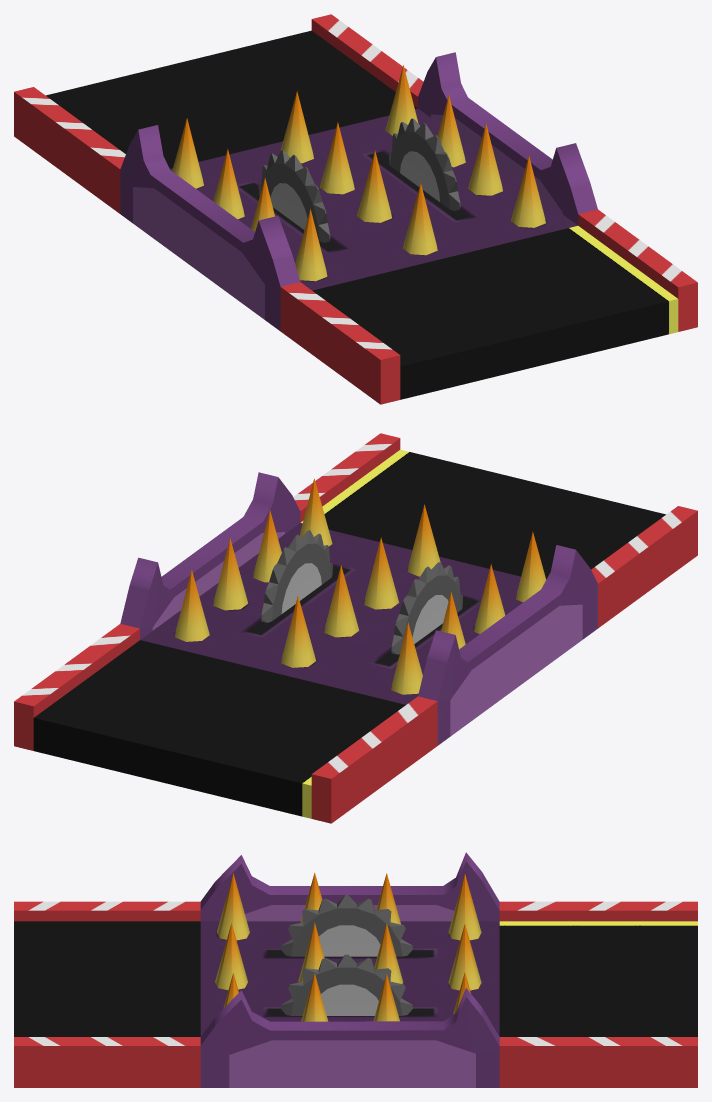
File: Special track - Spike trap.fbx
3 views of the same model, one above another, from view 1: azimuth 30°, elevation 25°; view 2: azimuth 150°, elevation 25°; view 3: azimuth 270°, elevation 25° (orthographic). The views are drawn at different scales.
Visible parts, largest first — view 1: Track - Spike trap piece, Spikes, SAW; view 2: Track - Spike trap piece, Spikes, SAW; view 3: Track - Spike trap piece, SAW, Spikes.
Boxes of the visible parts, <box> form: Track - Spike trap piece: <box>14,14,697,404</box>; Spikes: <box>172,65,545,281</box>; SAW: <box>258,118,460,242</box>; Track - Spike trap piece: <box>14,433,697,823</box>; Spikes: <box>175,478,546,694</box>; SAW: <box>261,530,462,654</box>; Track - Spike trap piece: <box>14,852,697,1087</box>; SAW: <box>280,895,412,1015</box>; Spikes: <box>215,872,481,1021</box>.
Size of the model in its own units: 50 by 20.58 by 100.
